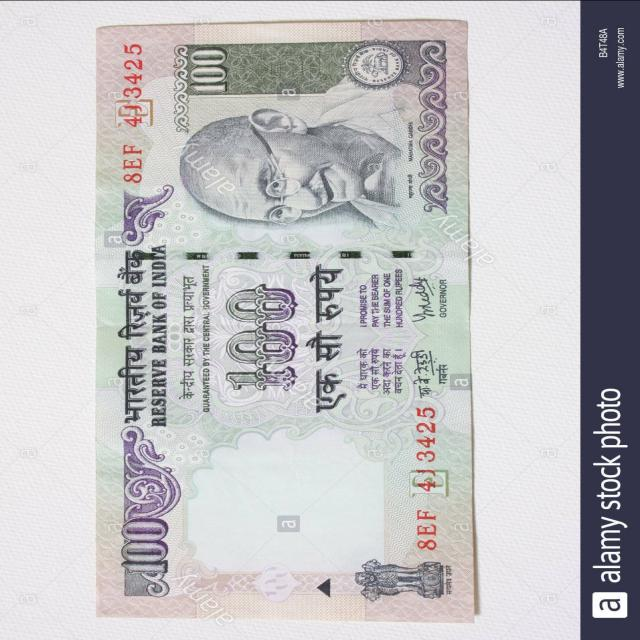100IndianRupees: (90, 21, 462, 622)
